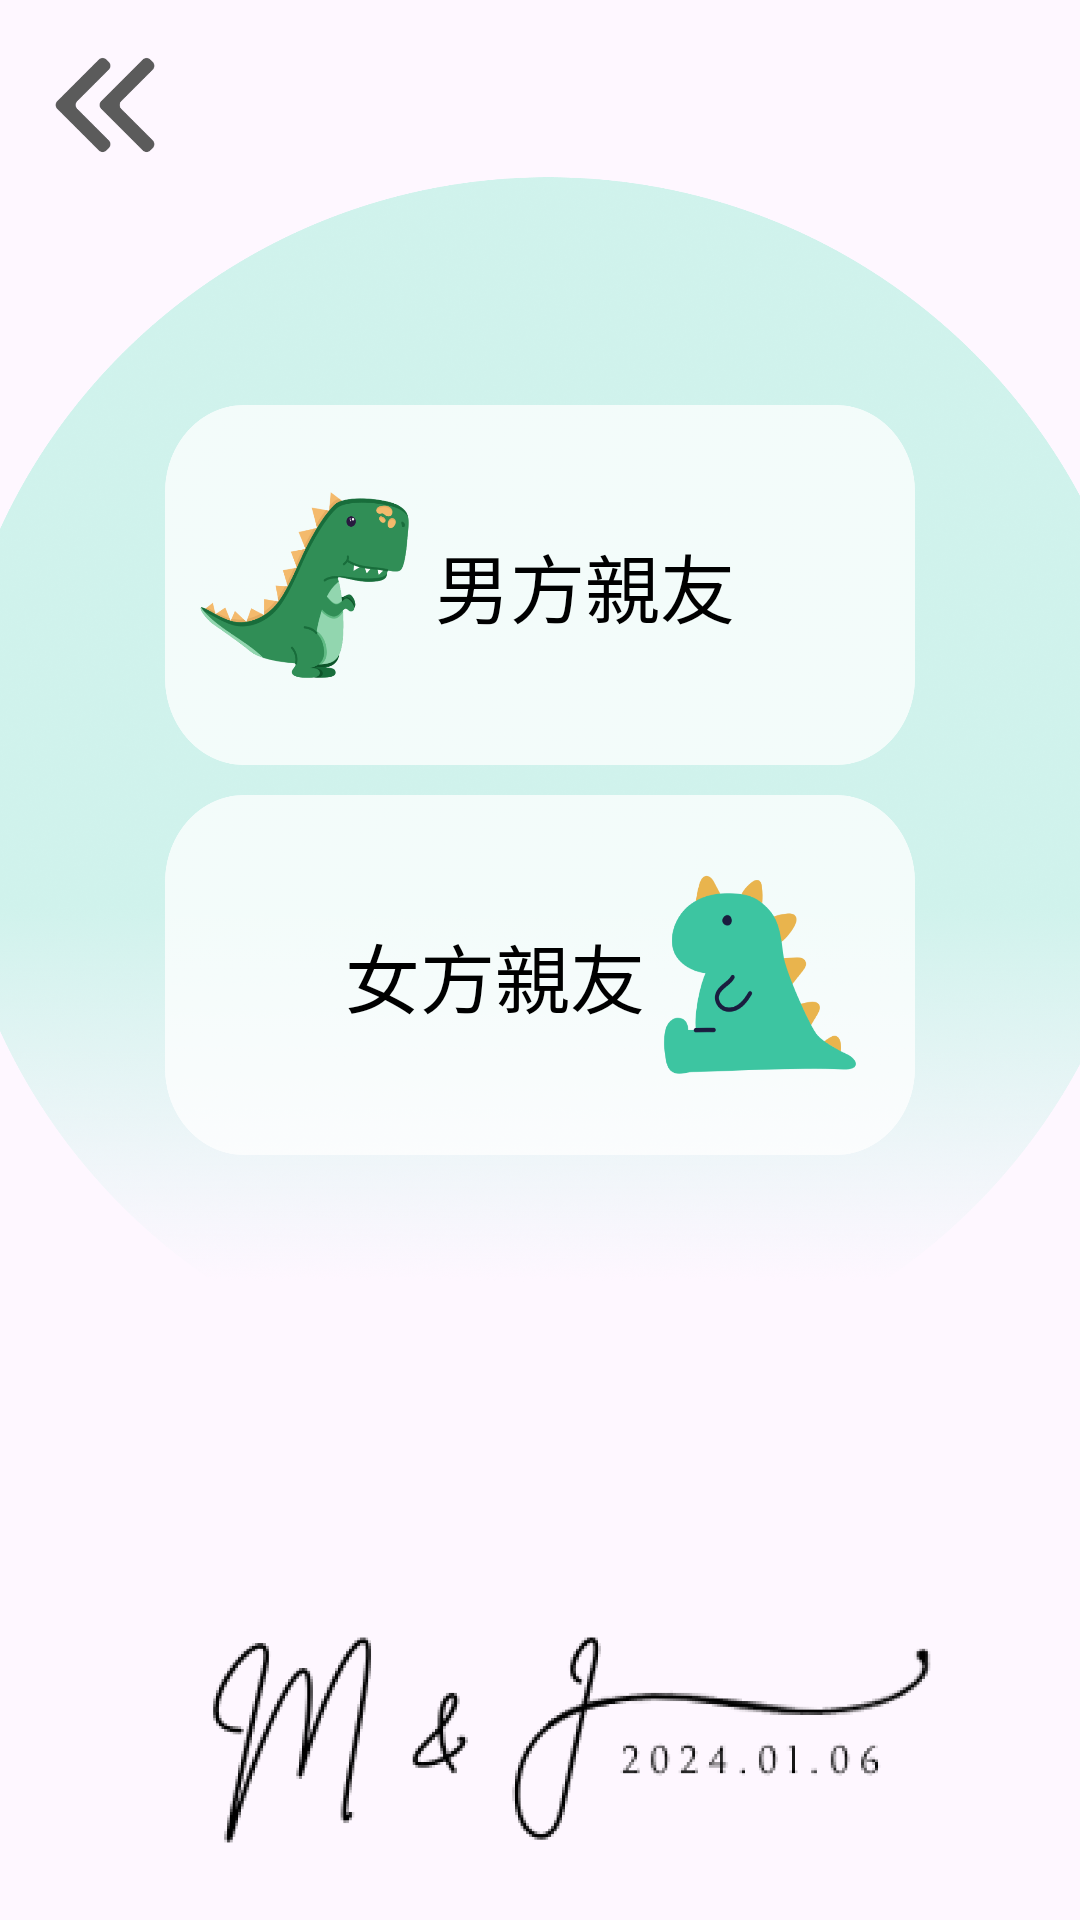

Where icons sit on this 1080×1920 app screen, as [x1=x1, y1=y1, x2=x2, y2=y2]:
back: [x1=55, y1=58, x2=155, y2=152]
